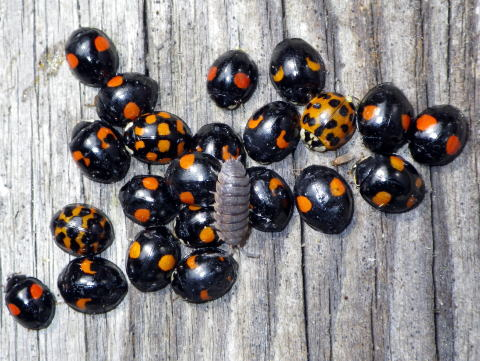rash: (126, 111, 192, 163)
red: (68, 119, 128, 183), (49, 202, 116, 258), (302, 92, 356, 149)
two_spots: (57, 256, 130, 316), (293, 164, 354, 235), (266, 37, 327, 107), (359, 83, 412, 156), (242, 101, 300, 166), (410, 106, 470, 167), (65, 26, 118, 88), (206, 47, 258, 109), (2, 273, 57, 331), (126, 226, 173, 292), (98, 71, 159, 120), (121, 176, 178, 226), (167, 152, 215, 201)
two_spots_mutant: (354, 153, 425, 215), (177, 248, 238, 305)
